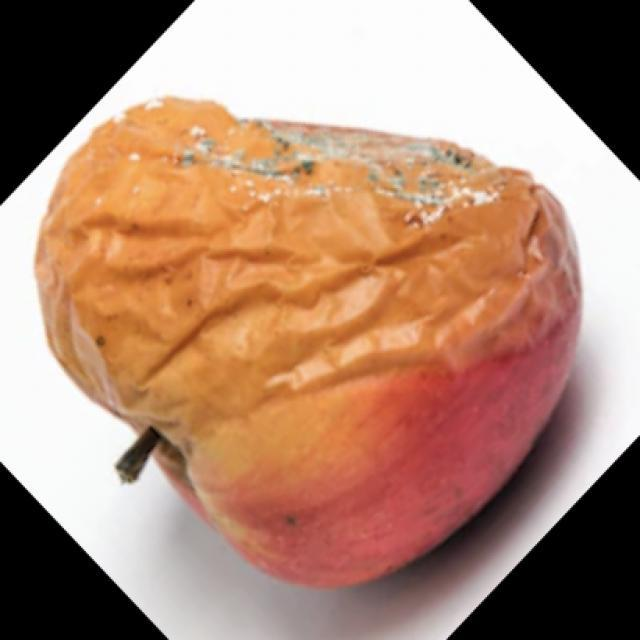Rotten: (35, 99, 597, 568)
